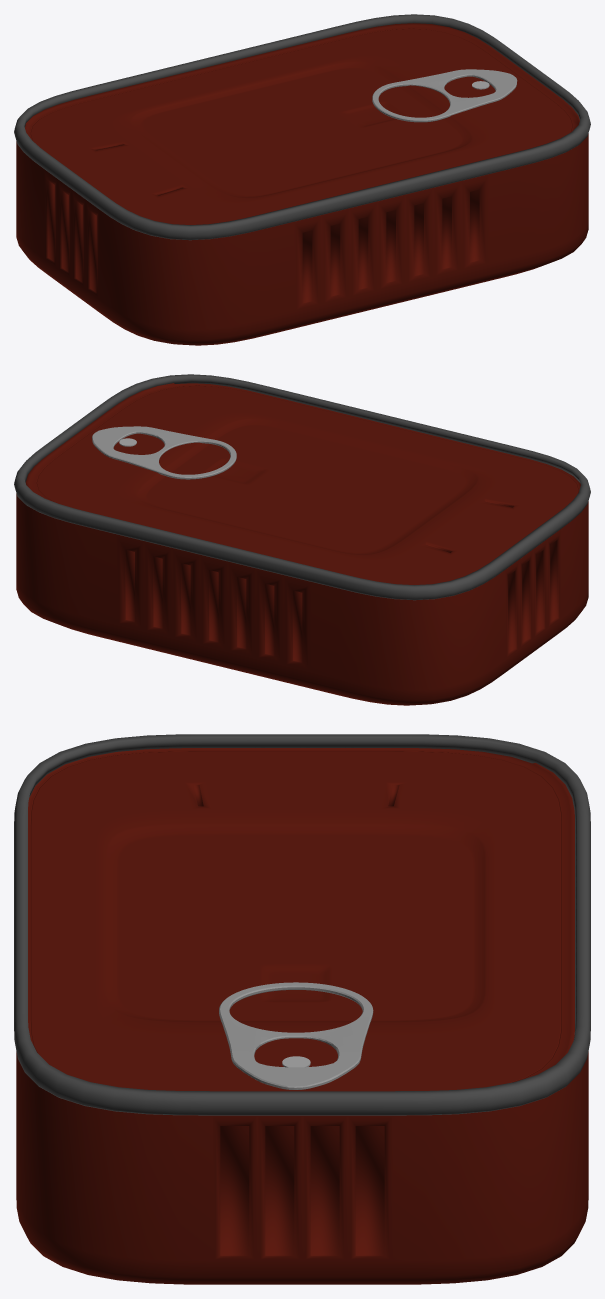
The model's file is can.fbx.
3 renders of one model, top to bottom at view 1: azimuth 30°, elevation 25°; view 2: azimuth 150°, elevation 25°; view 3: azimuth 270°, elevation 25°, orthographic. The views are drawn at different scales.
Parts seen in each view (by area): view 1: Plane.001, Plane.002, Cylinder; view 2: Plane.001, Plane.002, Cylinder; view 3: Plane.001, Plane.002, Cylinder.
Boxes of the visible parts, x1=… form: Plane.001: x1=16, y1=23, x2=588, y2=345; Plane.002: x1=14, y1=14, x2=590, y2=240; Cylinder: x1=372, y1=69, x2=517, y2=122; Plane.001: x1=16, y1=383, x2=588, y2=705; Plane.002: x1=14, y1=374, x2=590, y2=600; Cylinder: x1=92, y1=426, x2=236, y2=479; Plane.001: x1=16, y1=748, x2=588, y2=1284; Plane.002: x1=14, y1=734, x2=590, y2=1115; Cylinder: x1=219, y1=982, x2=373, y2=1089.
Size of the model in its own units: 225 by 57.87 by 150.
